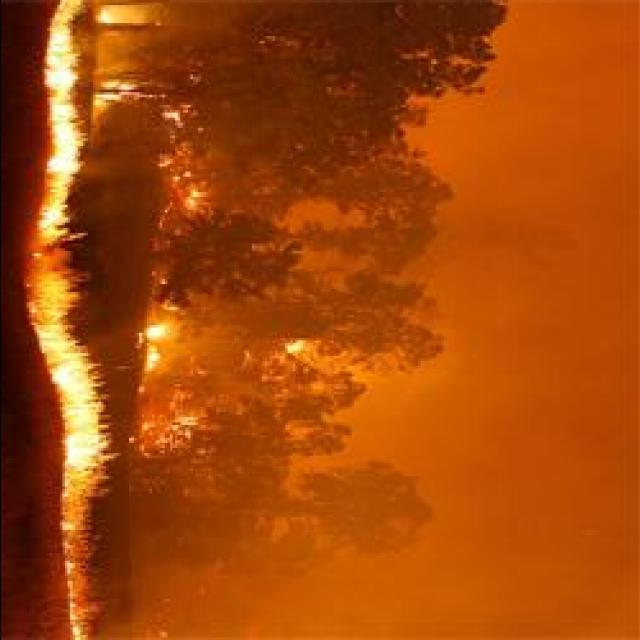fire: (496, 1, 640, 290), (42, 25, 88, 181), (54, 340, 100, 484), (61, 494, 102, 634)
smoke: (125, 490, 483, 637)
